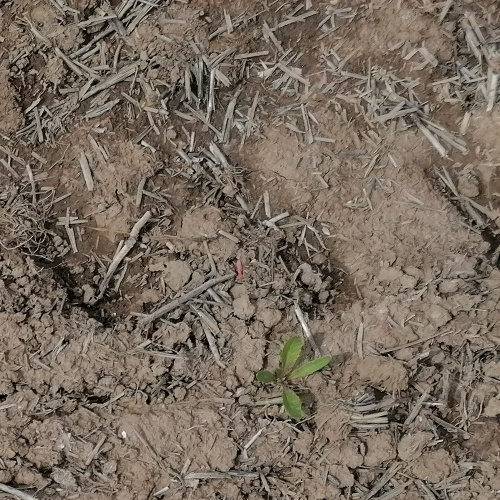beet: (254, 339, 332, 419)
